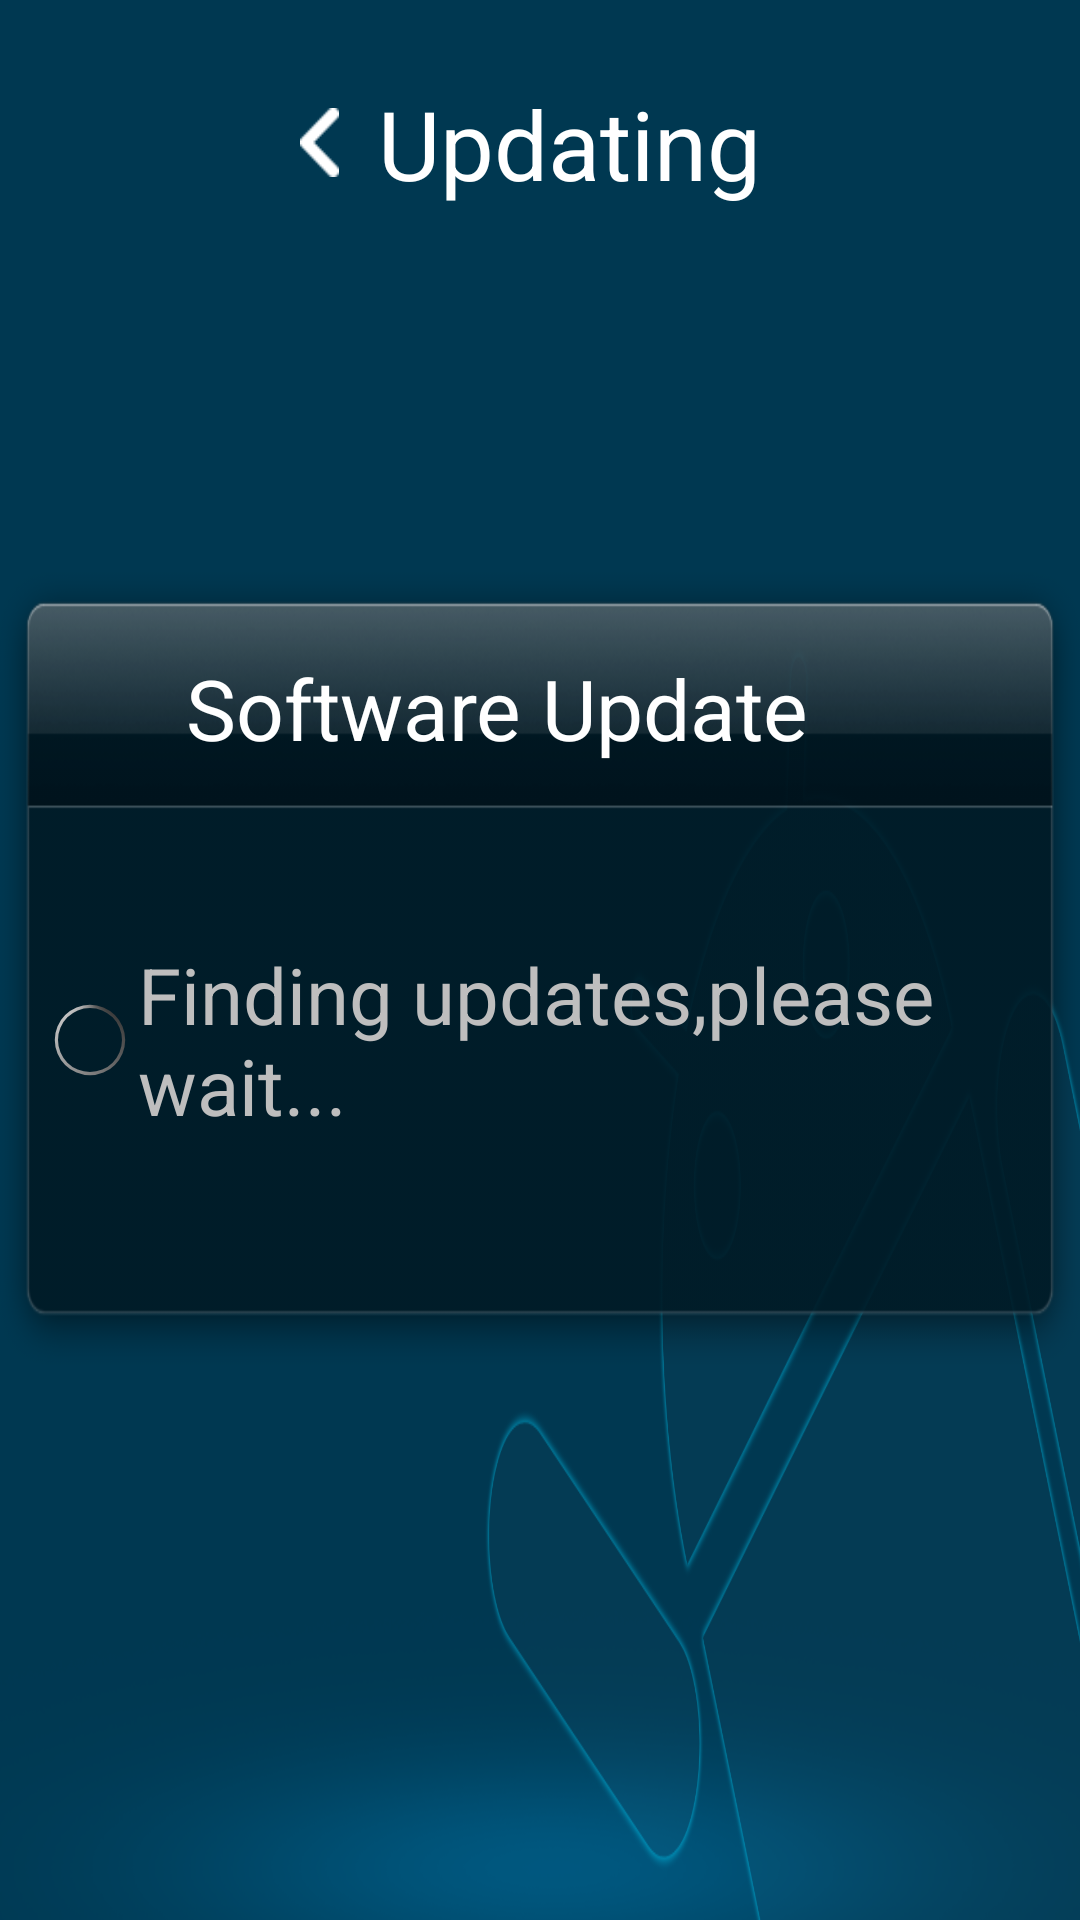

Where to tap for icons on this 1080px x 1920px app screen, as (x,y):
back: (319,142)
